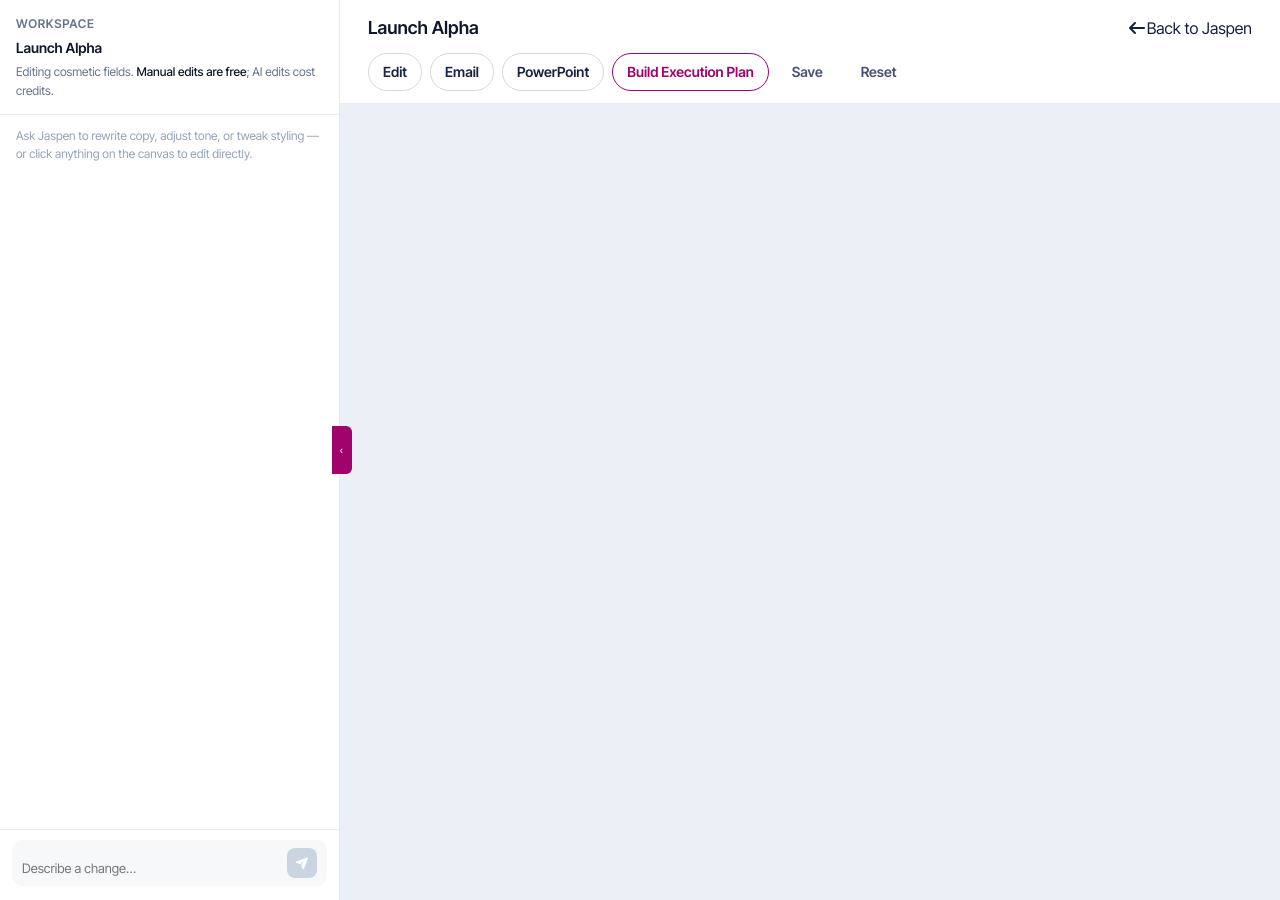
Test: opens the plan-exists dialog without adding a sidebar chat message
Type "Build an execution plan" into the text box with placeholder "Describe a change…" at x=152, y=869, box [22, 859, 281, 878]
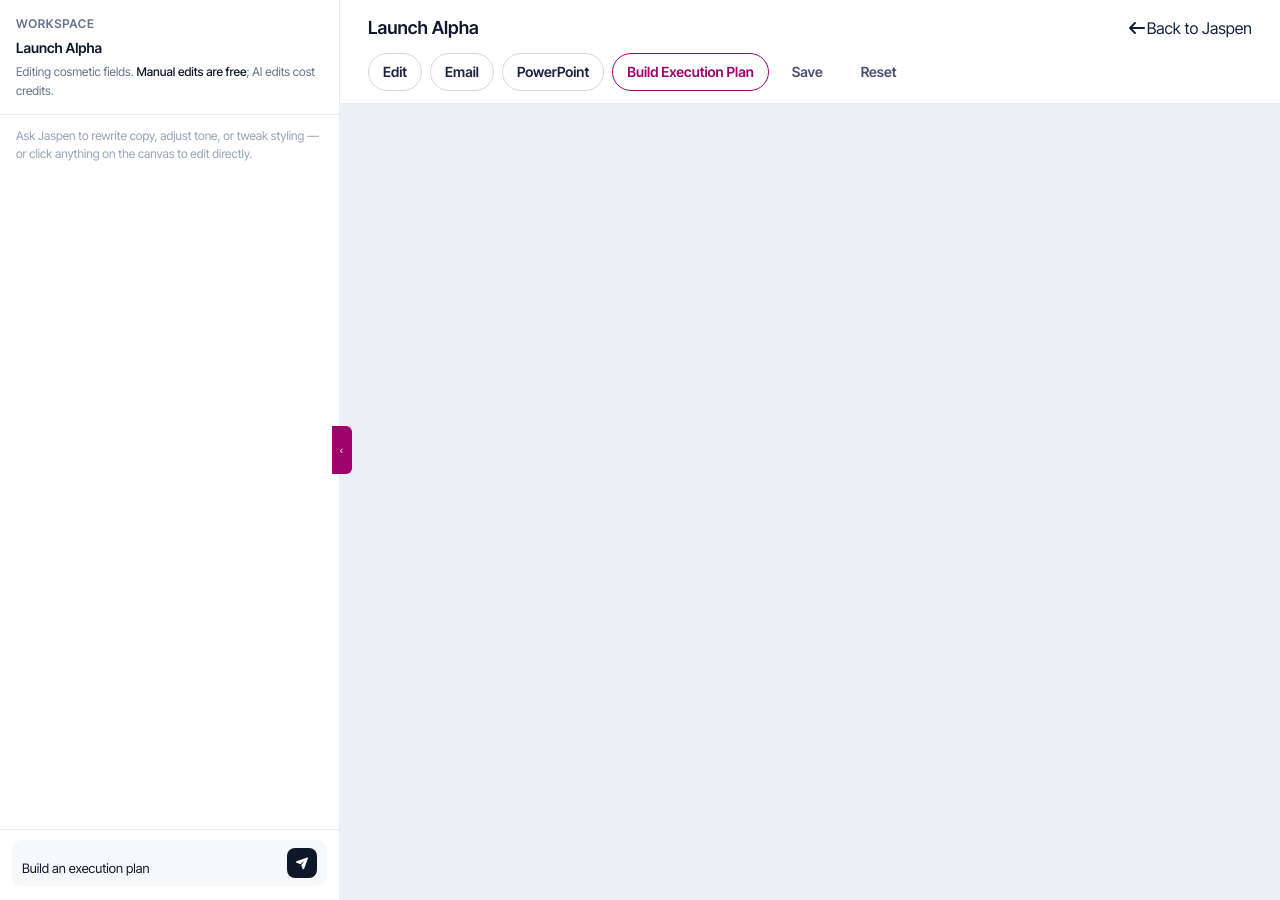
Click the button named "Send" at x=302, y=863, box [287, 848, 317, 878]
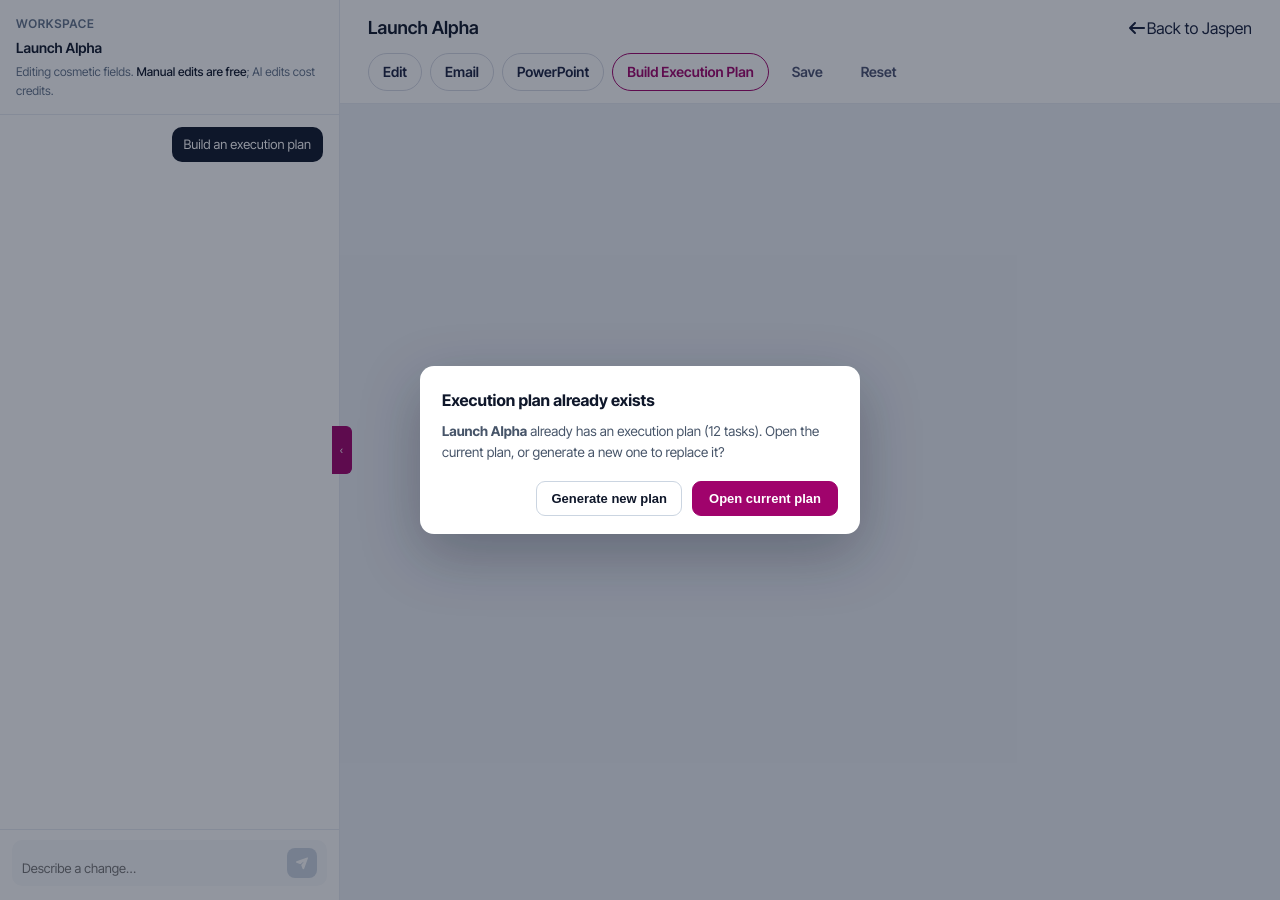
Expected: the dialog is shown, [420, 366, 860, 534]
Expected: the text "Execution plan already exists" is shown, [442, 390, 655, 410]
